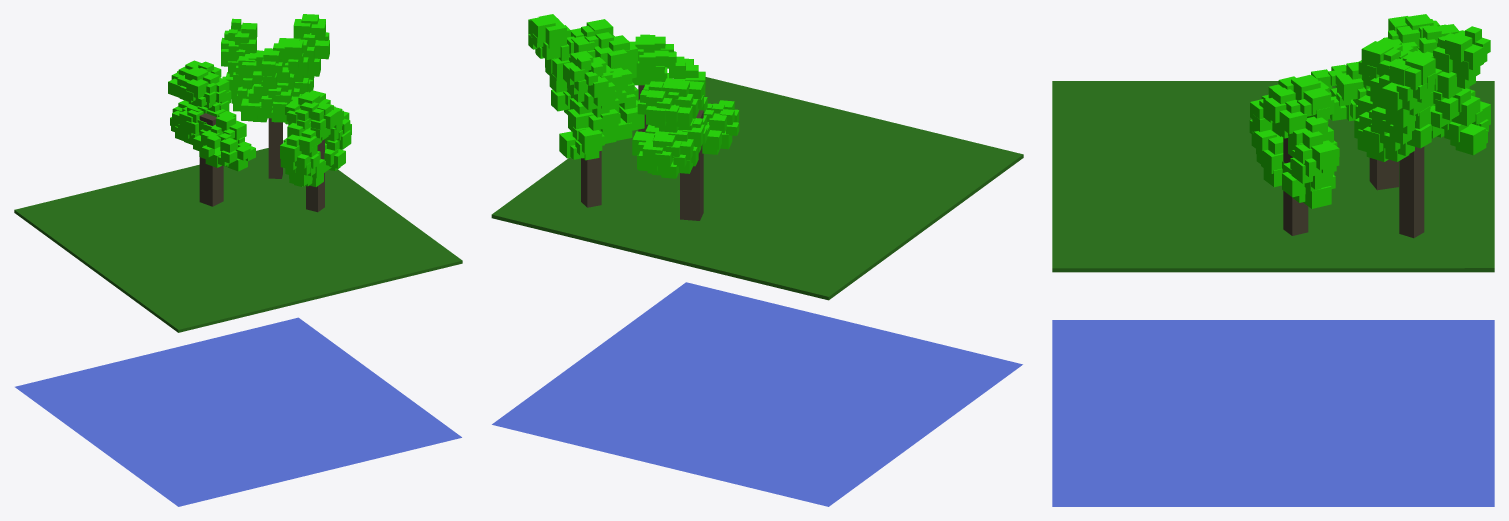
Rendered from 18__tile.fbx.
3 renders of one model, left to right at view 1: azimuth 30°, elevation 25°; view 2: azimuth 150°, elevation 25°; view 3: azimuth 270°, elevation 25°, orthographic. The views are drawn at different scales.
Visible parts, largest first — view 1: 18__tile; view 2: 18__tile; view 3: 18__tile.
Boxes of the visible parts, box(x1,y1,x2,y2) form: 18__tile: box(14, 14, 462, 506); 18__tile: box(491, 14, 1023, 506); 18__tile: box(1052, 14, 1494, 506).
Bounding box in the file's own units: 200 × 218 × 200.
